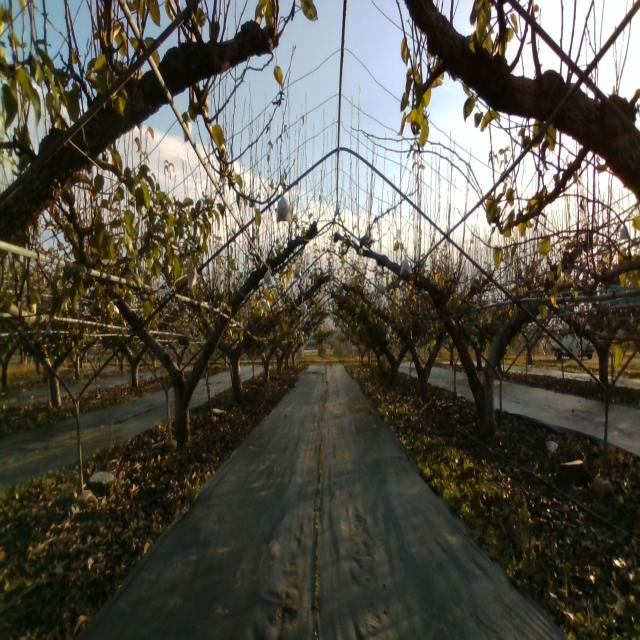pearbags: (275, 194, 291, 224), (185, 264, 198, 290), (399, 254, 413, 277)
